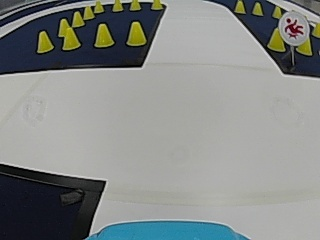cone: (126, 21, 146, 46), (94, 23, 114, 48), (61, 26, 79, 50), (267, 29, 284, 52), (36, 30, 52, 53), (297, 39, 312, 56), (71, 10, 83, 27), (58, 17, 68, 36), (82, 5, 94, 20), (252, 1, 263, 16), (233, 1, 245, 14), (94, 0, 104, 14), (112, 0, 123, 12), (130, 0, 141, 11), (272, 6, 282, 18), (151, 0, 162, 10)
tumble: (281, 14, 307, 42)
